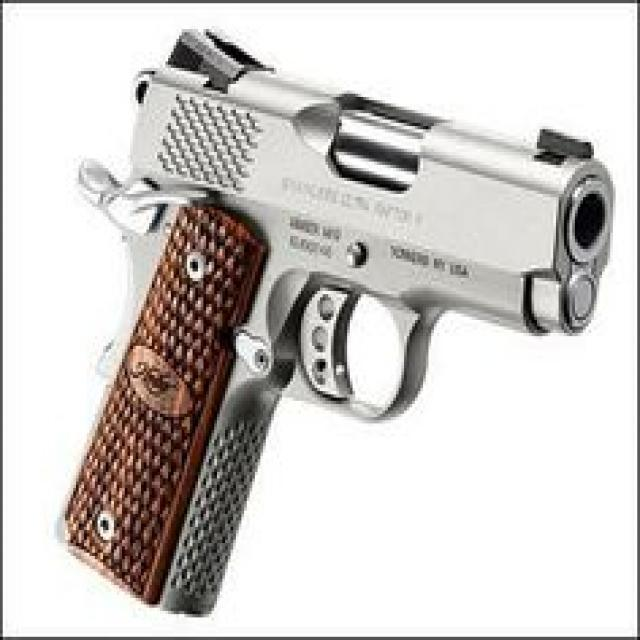semi automatic: (49, 17, 624, 626)
